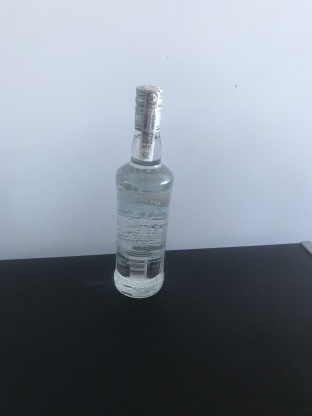nakretka: (132, 81, 165, 134)
